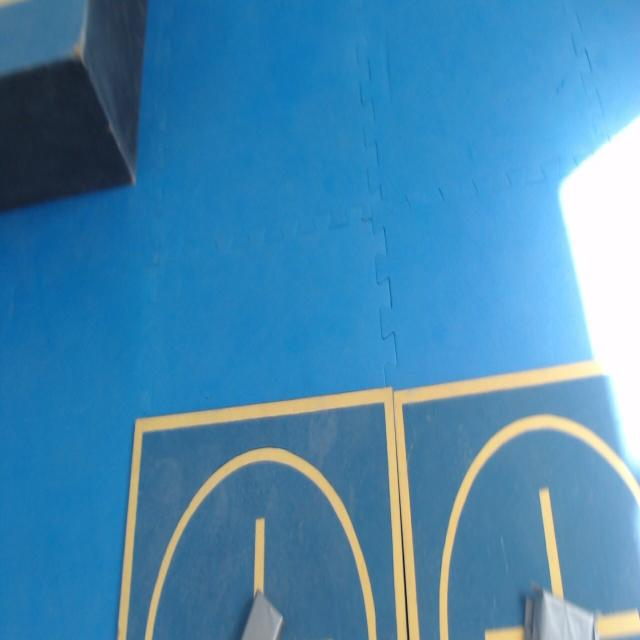direita: (241, 590, 284, 639)
esquerda: (524, 588, 598, 639)
